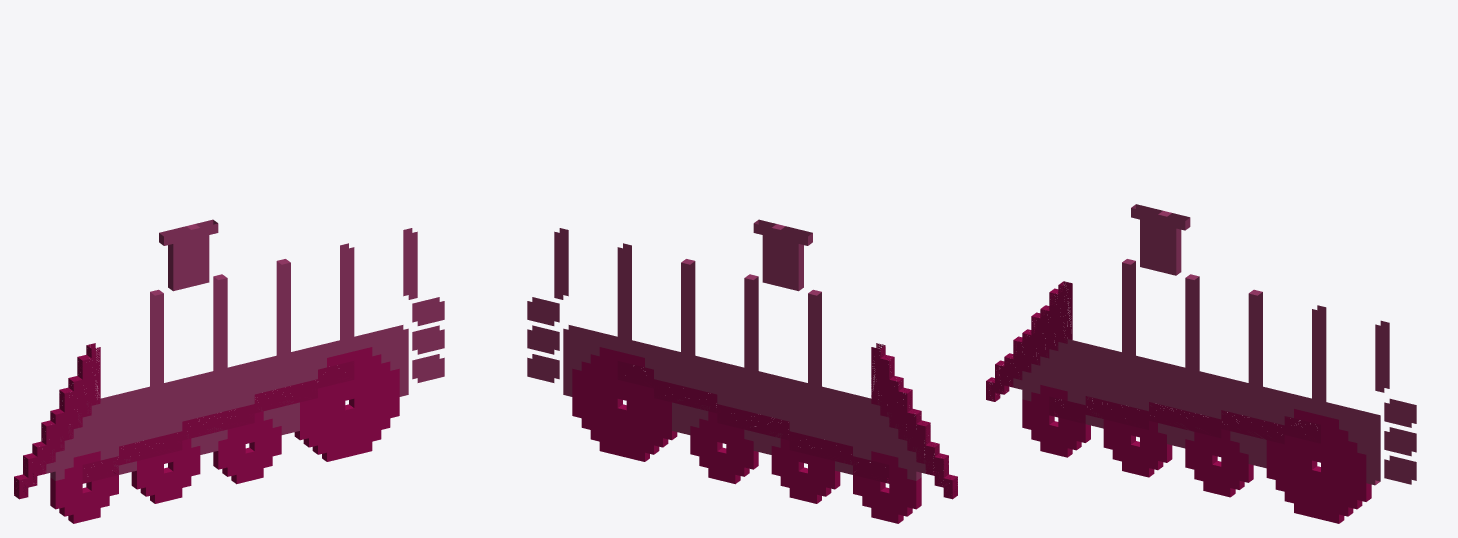
File: Train2.obj
3 renders of one model, left to right at view 1: azimuth 30°, elevation 25°; view 2: azimuth 150°, elevation 25°; view 3: azimuth 330°, elevation 25°, orthographic.
Bounding box in the file's own units: 5 × 4.9 × 0.1.
1 material, 1 textured.
